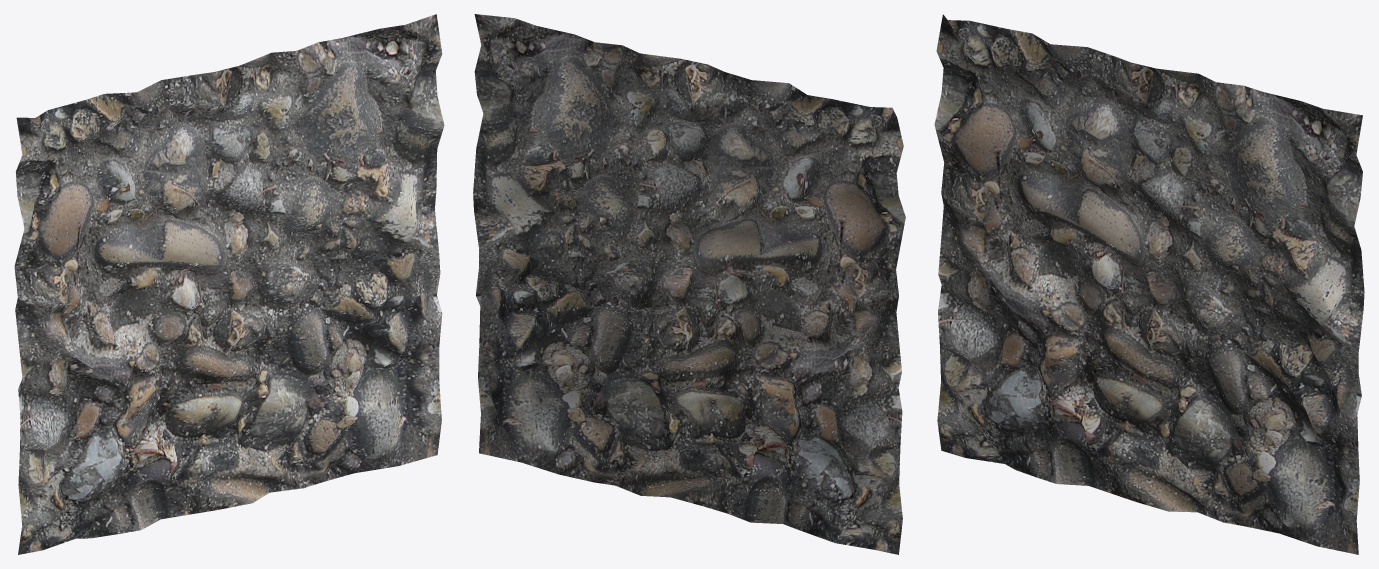
Rendered from stone.obj.
3 views of the same model, side by side, from view 1: azimuth 30°, elevation 25°; view 2: azimuth 150°, elevation 25°; view 3: azimuth 330°, elevation 25° (orthographic).
Visible parts, largest first — view 1: Plane.001; view 2: Plane.001; view 3: Plane.001.
Boxes of the visible parts, x1,y1,x2,y2 form: Plane.001: (14,14,444,554); Plane.001: (473,14,905,554); Plane.001: (934,14,1364,554).
Size of the model in its own units: 201 by 200 by 8.78.
1 material, 1 textured.
